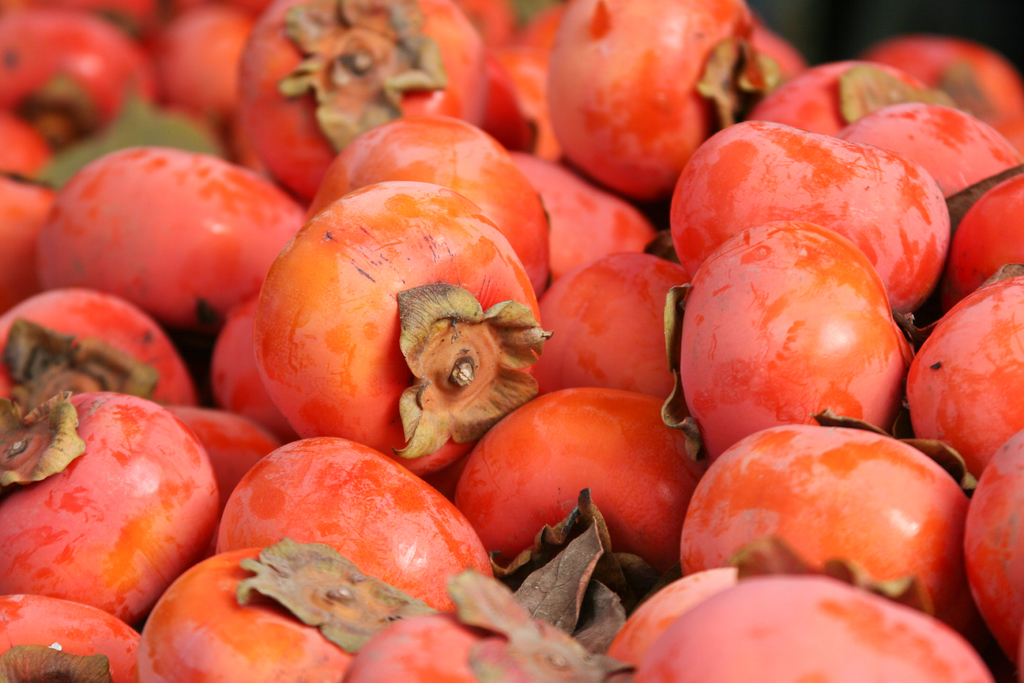Tomato: (1, 1, 1024, 683)
